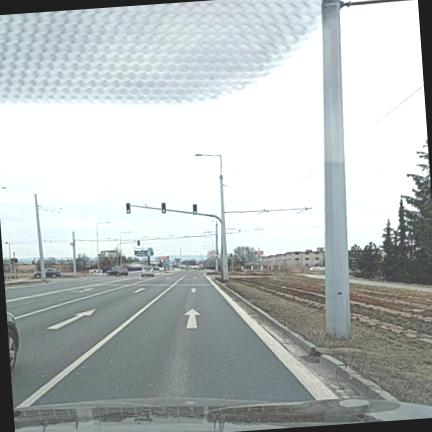Road: (5, 270, 315, 406)
